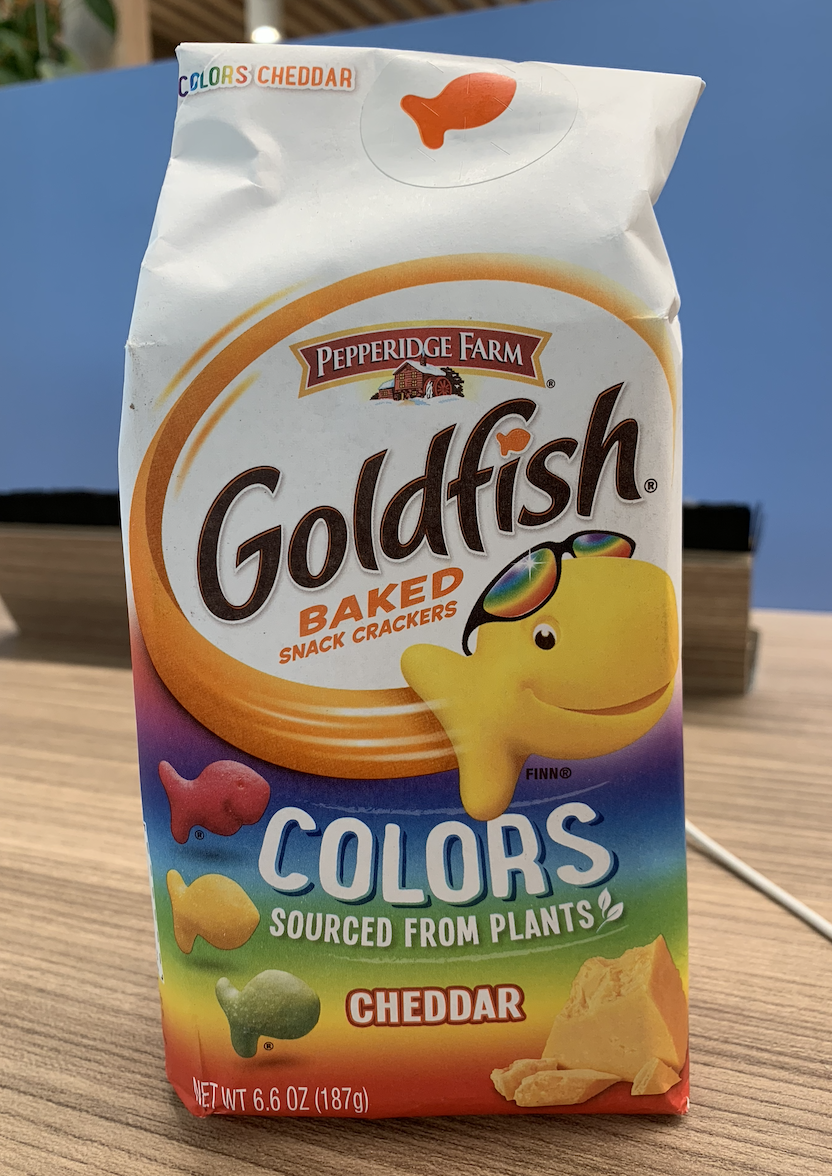crackers_100g-199g: (168, 266, 678, 1119)
